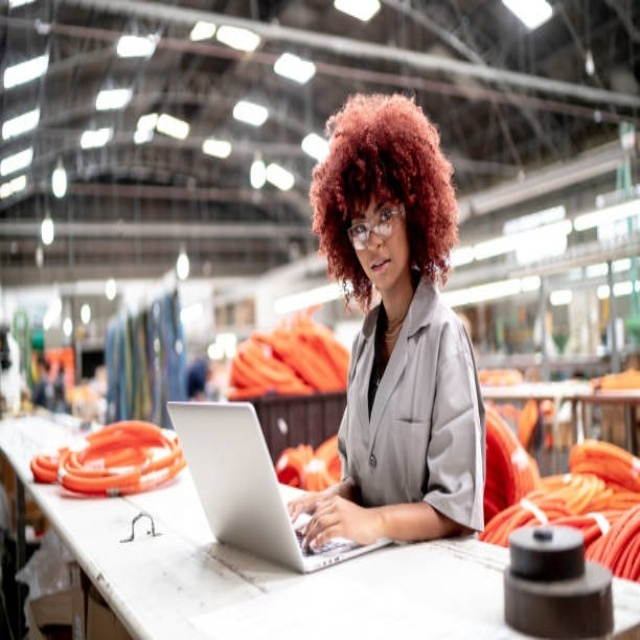Gafas: (347, 202, 406, 248)
Sin_guantes: (284, 485, 379, 557)
Sin_mascara: (365, 251, 396, 289)
